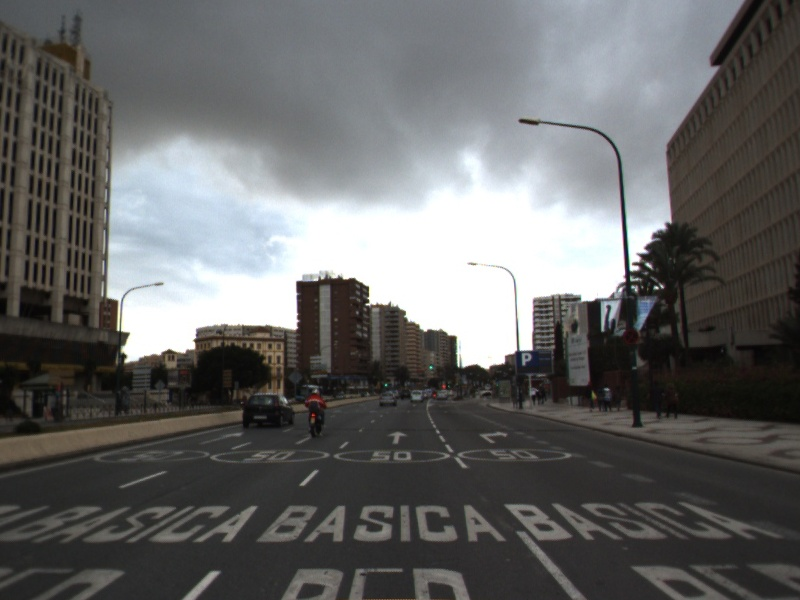RIGHT: (477, 429, 510, 445)
STRAIGHT: (196, 429, 247, 447), (292, 430, 325, 447), (385, 429, 411, 446)
